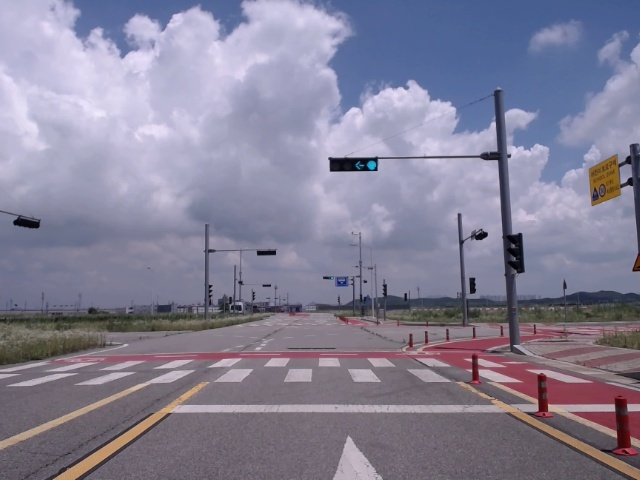all_green_4: (327, 155, 379, 172)
